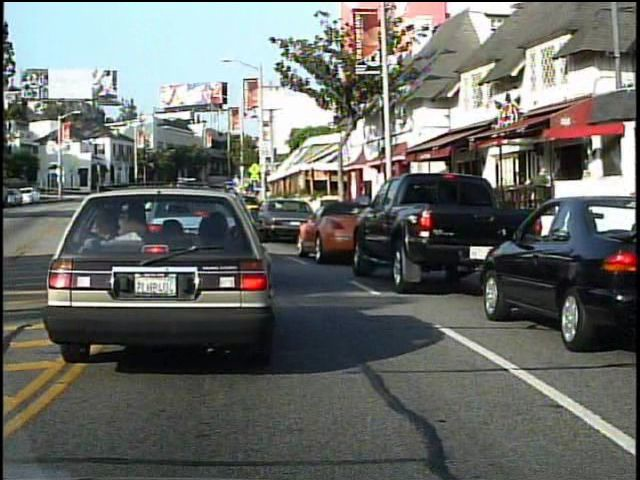person: (527, 162, 555, 230)
